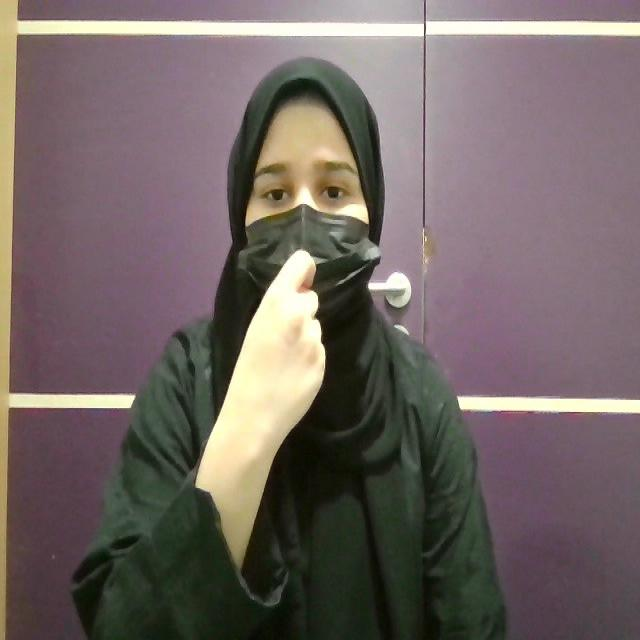medicine: (194, 248, 326, 571)
